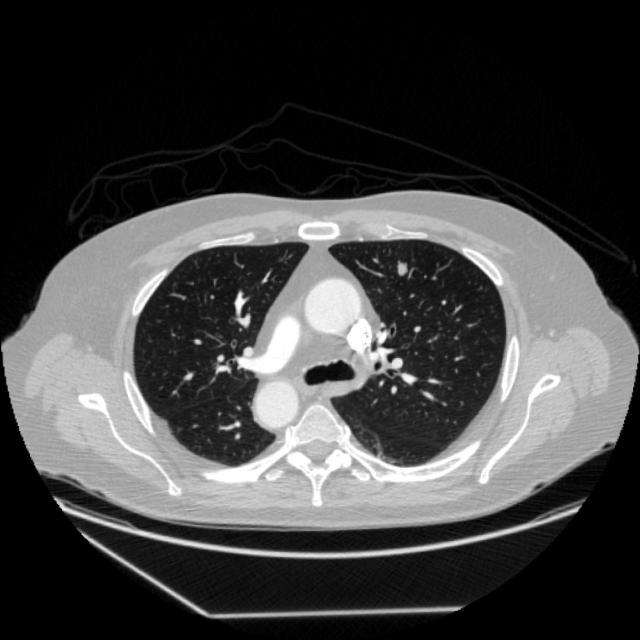nodule: (388, 252, 418, 282)
